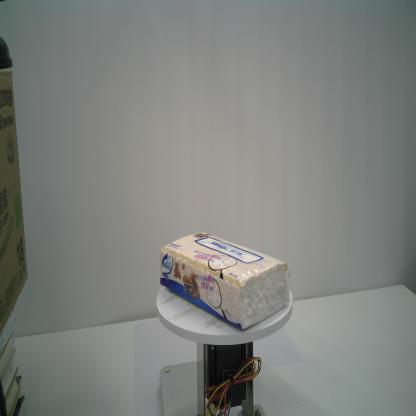Tissue: (158, 229, 291, 332)
